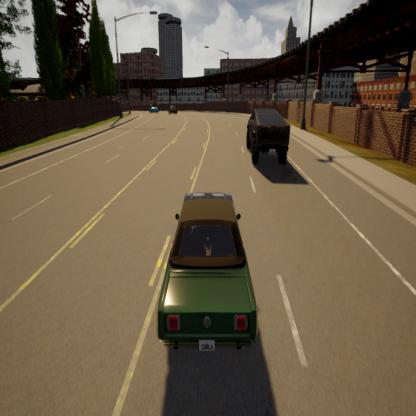Cars: (156, 167, 267, 354), (237, 97, 292, 167), (148, 97, 160, 115), (167, 101, 180, 114)
